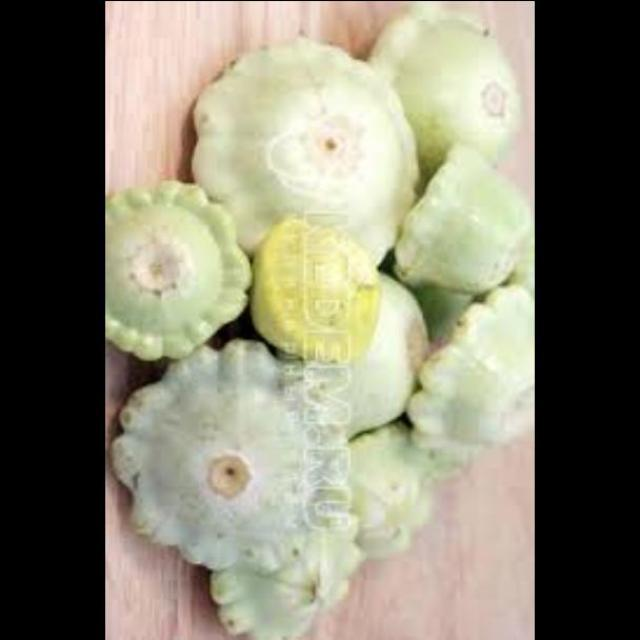squash-patisson: (185, 31, 436, 272), (107, 348, 350, 578), (228, 207, 388, 370), (107, 166, 261, 334), (370, 5, 524, 164), (413, 280, 536, 476), (313, 282, 451, 438), (334, 412, 468, 570), (390, 152, 536, 296), (225, 504, 377, 639)
